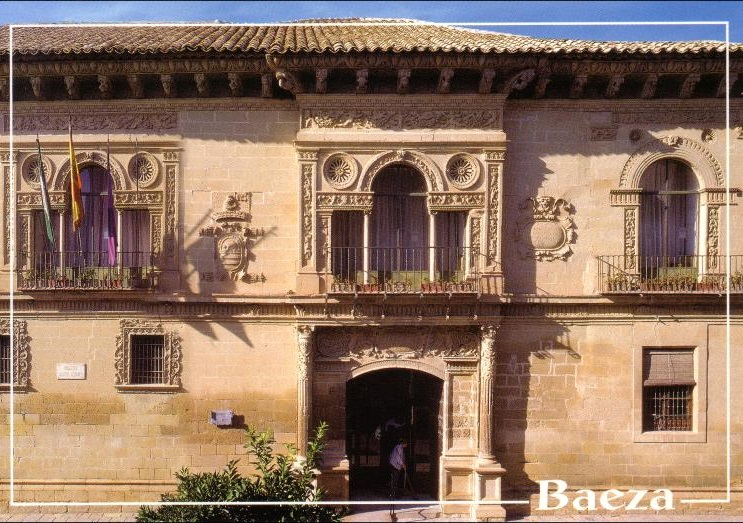arco-medio-punto: (627, 147, 716, 203)
serliana: (316, 144, 484, 296), (11, 143, 162, 292)
